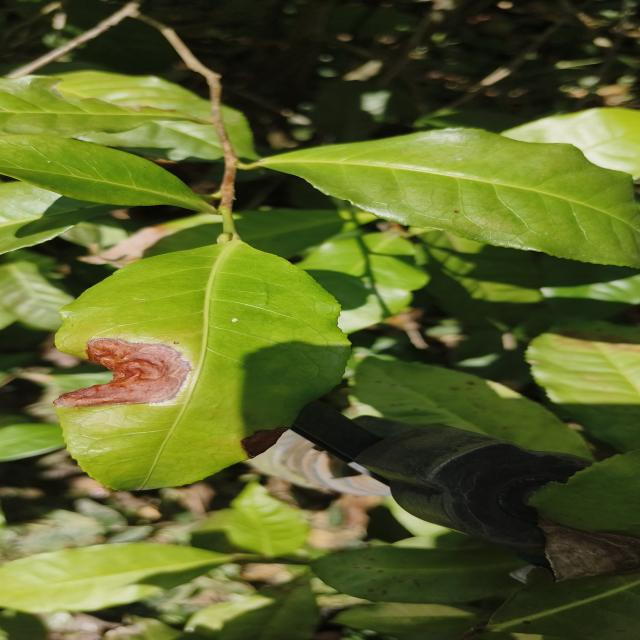Leaf: (56, 240, 350, 490), (254, 128, 640, 267), (351, 356, 590, 458), (0, 134, 213, 211), (0, 542, 230, 613), (526, 321, 640, 452), (60, 72, 222, 161), (410, 228, 542, 330), (297, 232, 428, 333), (311, 545, 523, 604), (0, 76, 190, 139), (501, 108, 640, 180), (187, 573, 319, 640), (0, 182, 119, 254), (78, 215, 222, 267), (539, 254, 640, 320), (226, 482, 308, 557), (234, 208, 345, 258), (333, 602, 476, 640), (0, 261, 74, 331), (0, 423, 65, 462), (222, 106, 258, 160)
